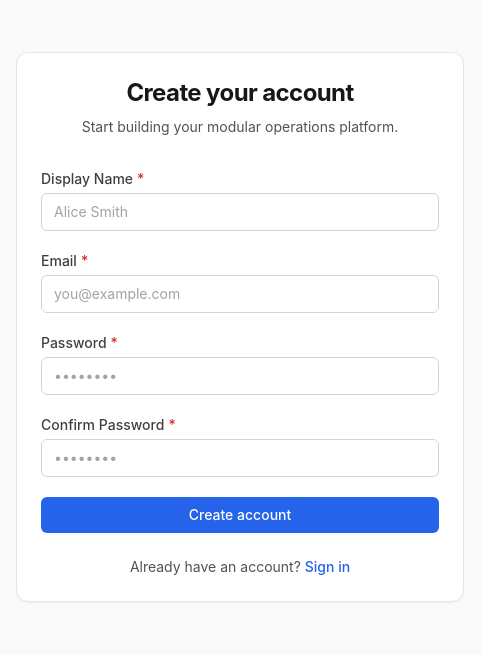
Test: RegisterPage › shows validation errors for empty fields
What coordinates should you click on to do the following:
click the button "Create account"
I would click on:
 (240, 515)
Its box is [41,497,439,533].
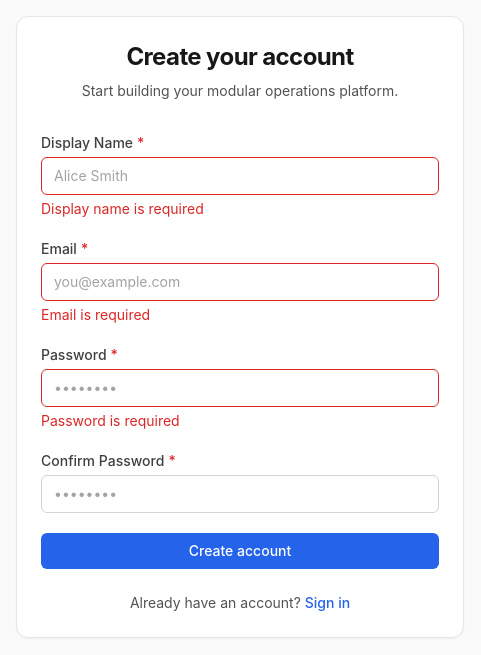
Expected: the text "Display name is required" is shown, [41,200,204,217]
Expected: the text "Email is required" is shown, [41,306,150,323]
Expected: the text "Password is required" is shown, [41,412,180,429]
